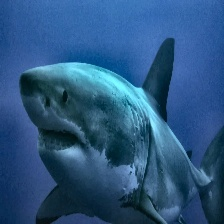shark: (19, 36, 221, 223)
